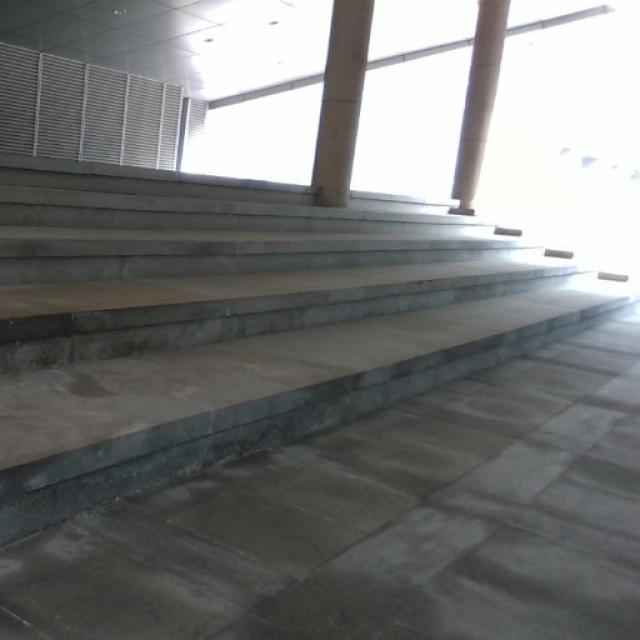Stairs: (0, 150, 632, 555)
